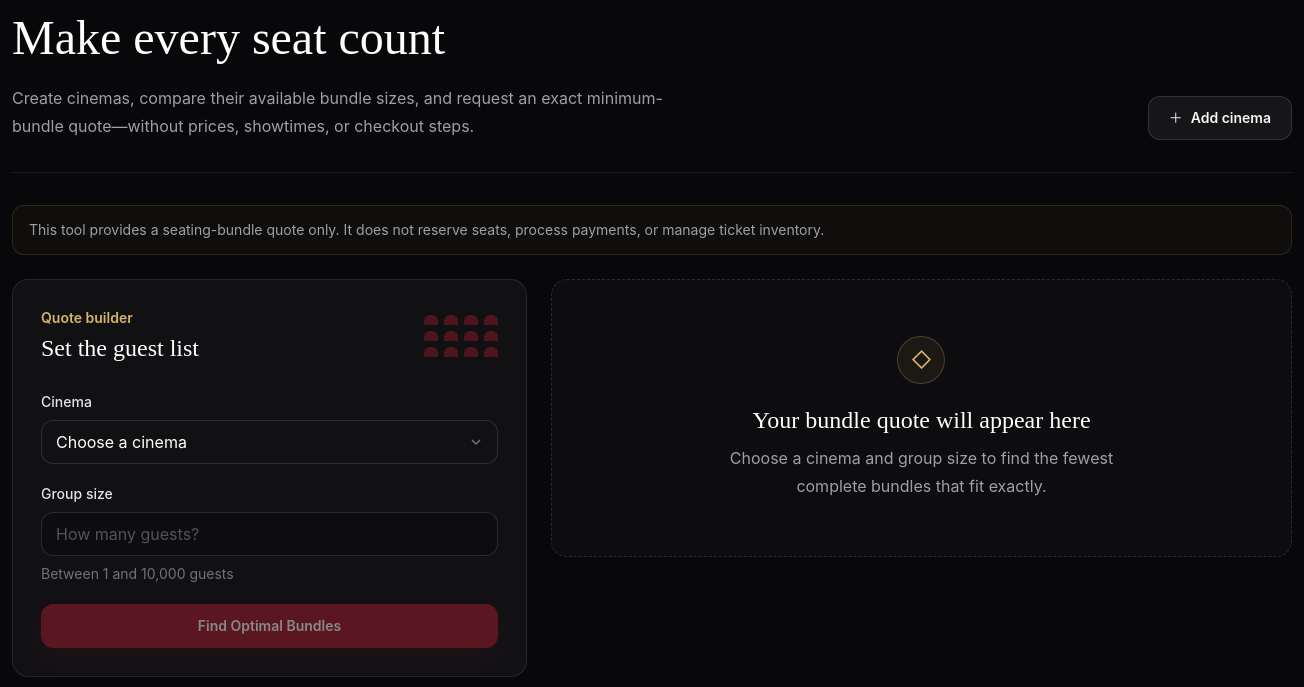
BookingPage › shows the optimal quote for Cinema A and group 6
Select "Cinema A" in the dropdown labelled "Cinema" at (270, 442), box [41,420,498,464]
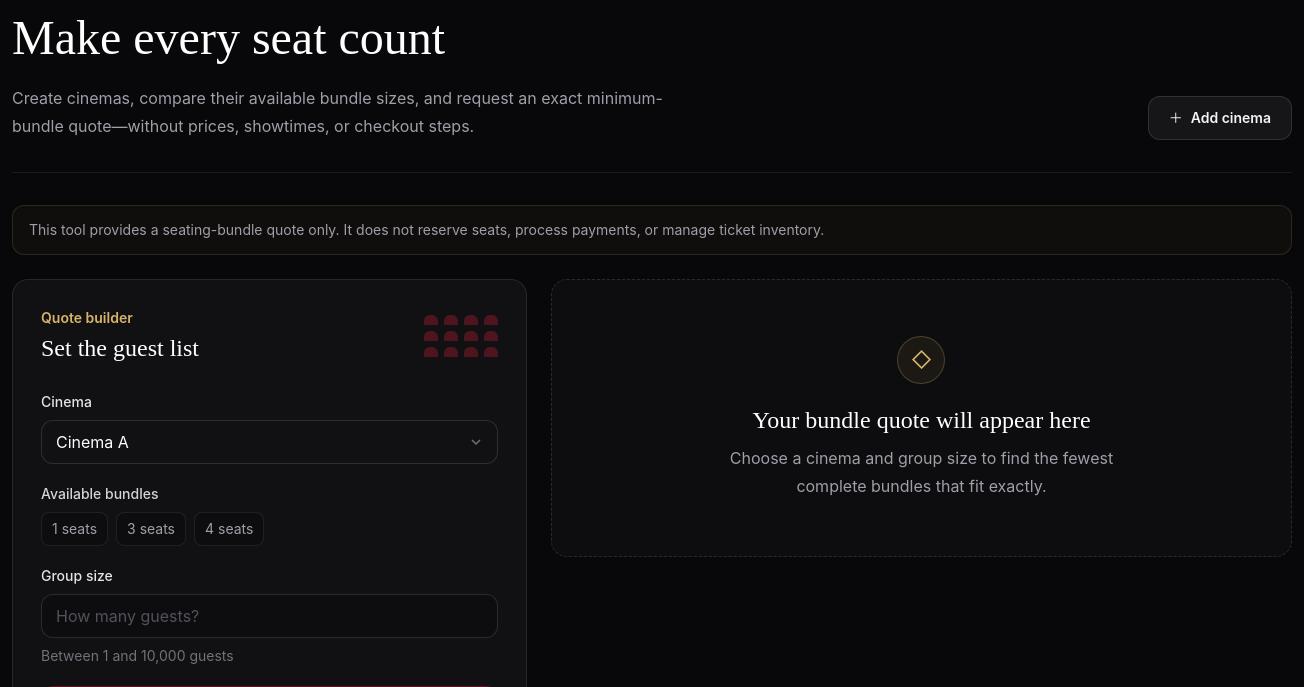
Type "6" into the number field labelled "Group size" at (270, 616), box [41,594,498,638]
(page scrolled)
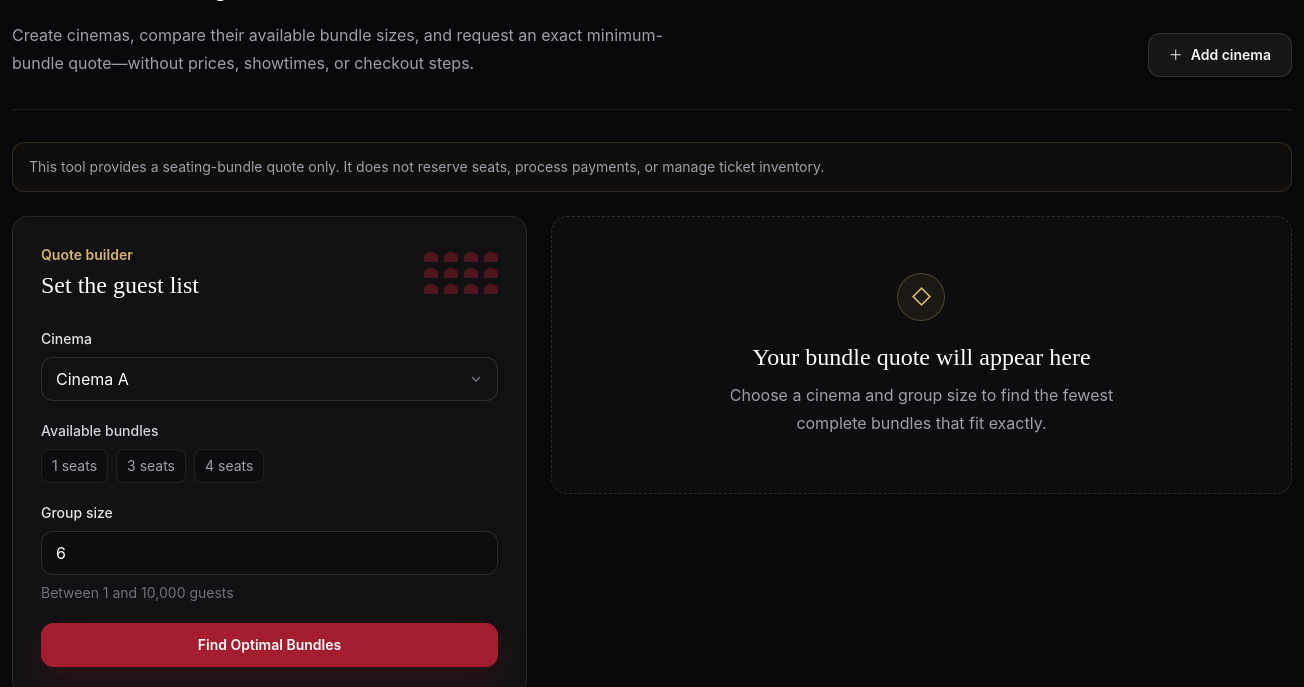
Click the button "Find Optimal Bundles" at (270, 645), box [41,623,498,667]
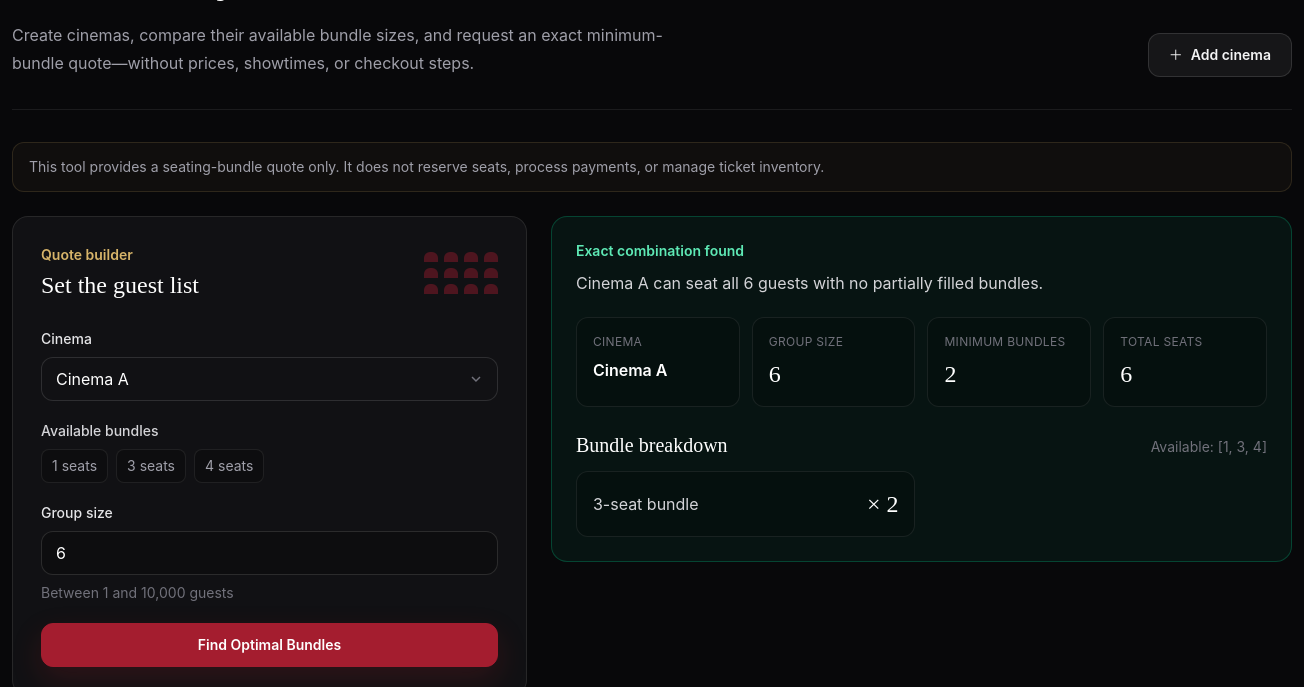
Result: the text "Exact combination found" is shown at [576,242,744,259]
Result: the text "2" is shown at [944,361,956,387]
Result: the text "6" below "Total seats" is shown at [1120,361,1132,387]
